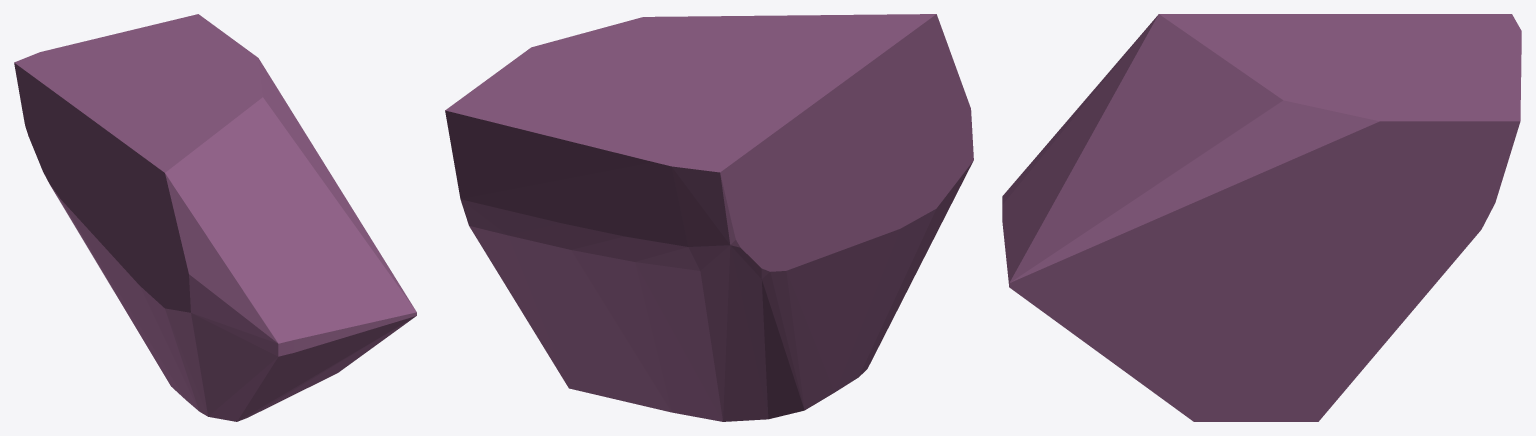
The picture shows the model from 3 angles, left to right: view 1: azimuth 30°, elevation 25°; view 2: azimuth 150°, elevation 25°; view 3: azimuth 270°, elevation 25°; orthographic projection. The views are drawn at different scales.
Bounding box in the file's own units: 0.0137 × 0.0179 × 0.0281.
